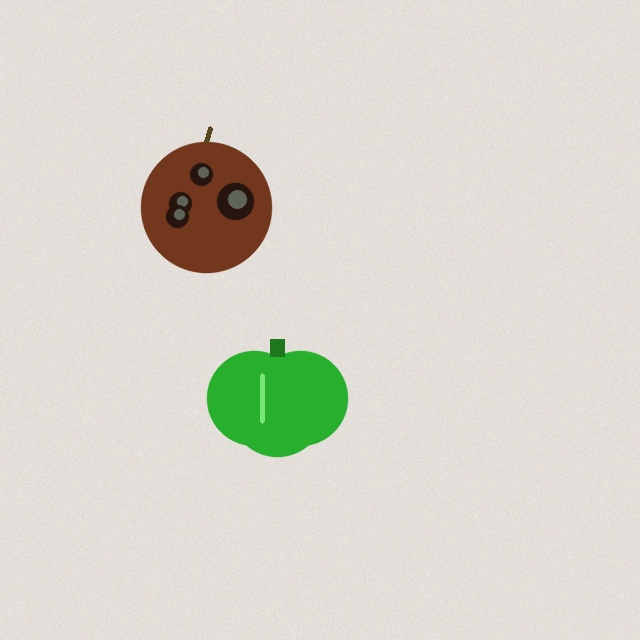Fresh bell pepper: (207, 339, 347, 456)
Rotten apple: (141, 128, 271, 272)
